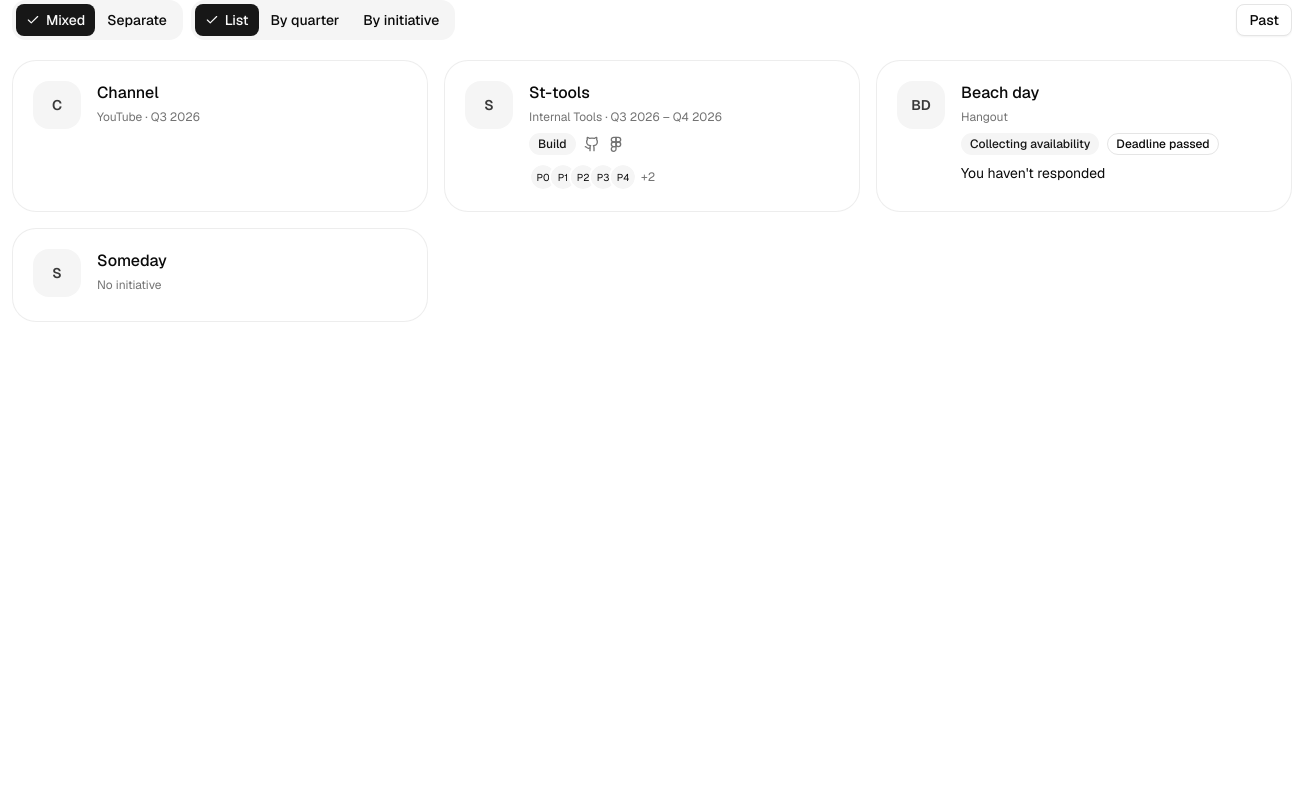
ProjectOverview › keeps group headings in outline order in both layouts
The width and height of the screenshot is (1304, 800).
Click the button "By quarter": {"x": 305, "y": 20} [259, 4, 351, 36]
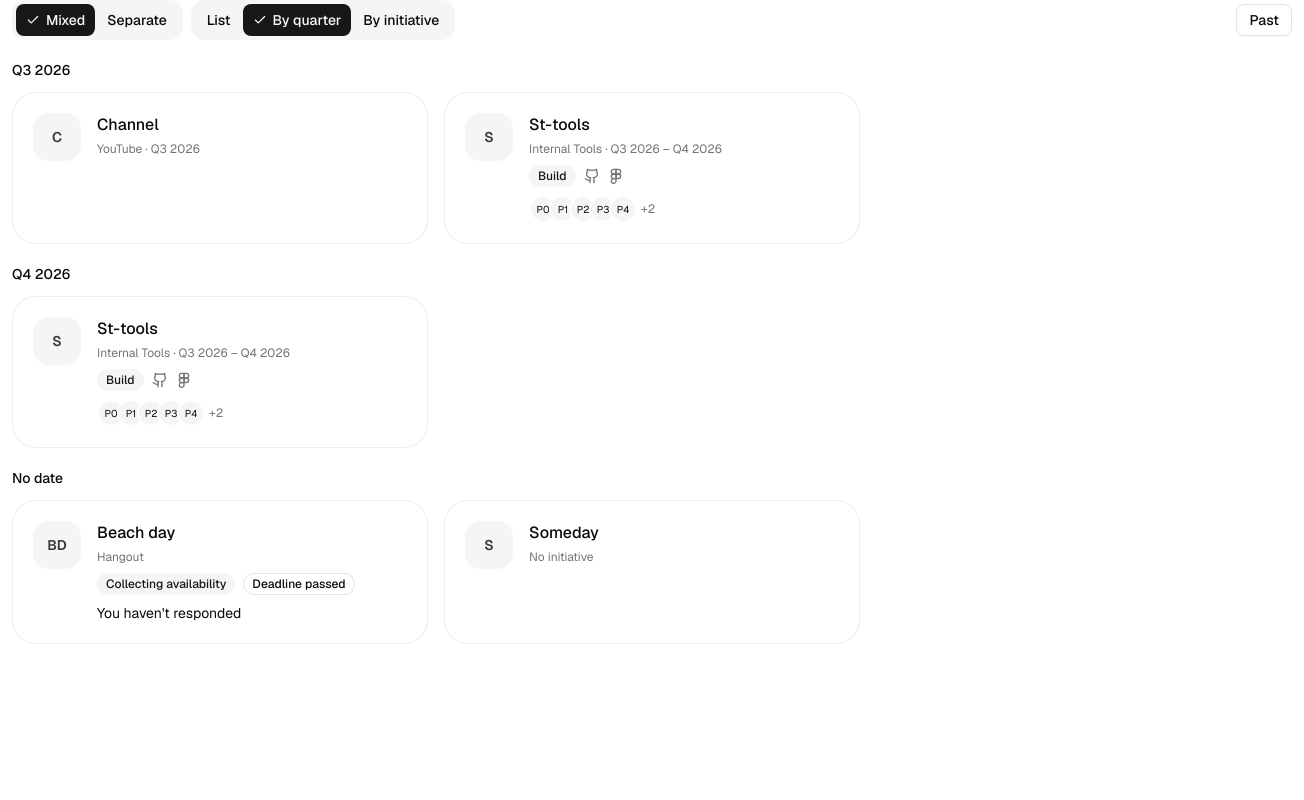
Now the heading "Q4 2026" is shown, box [12, 265, 70, 283]
Click the button "Separate": {"x": 137, "y": 20} [95, 4, 179, 36]
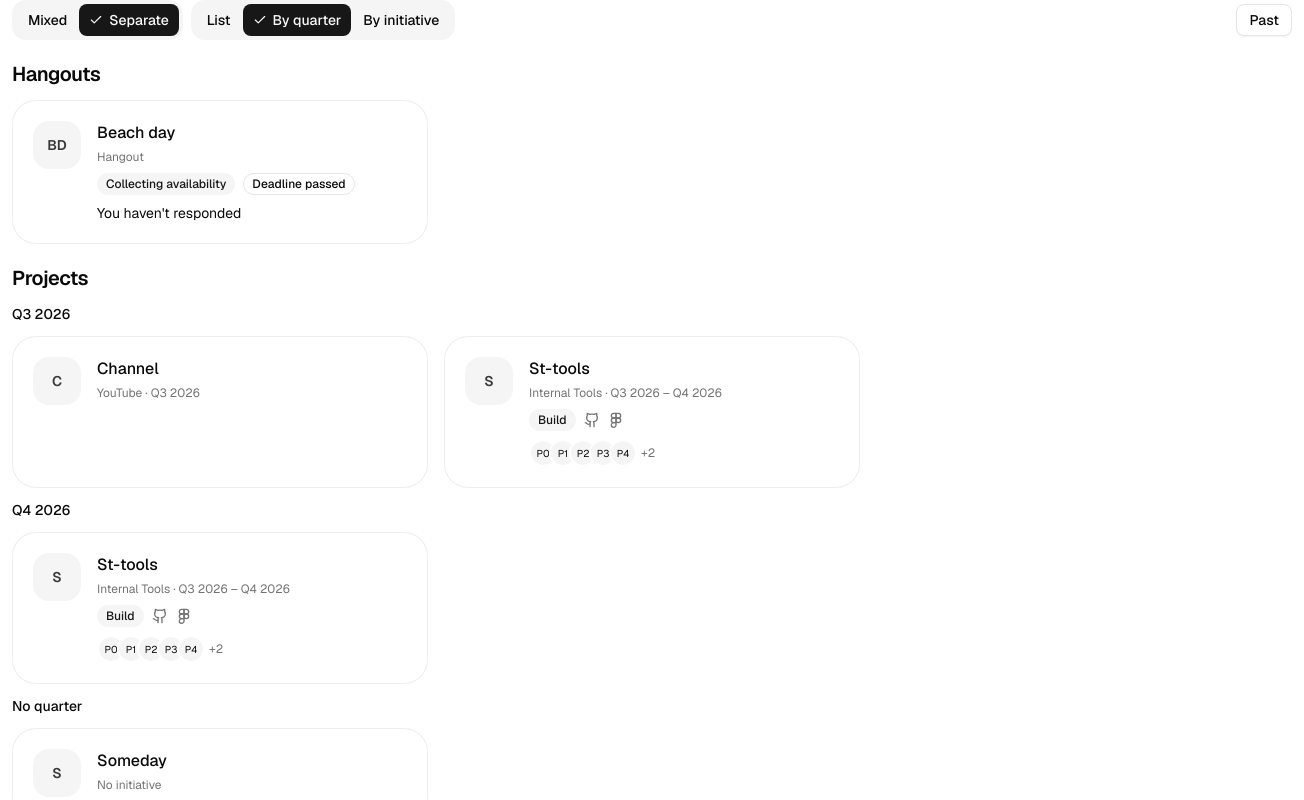
Now the heading "Q4 2026" is shown, box [12, 501, 70, 519]
Now the heading "Projects" is shown, box [12, 265, 88, 291]
